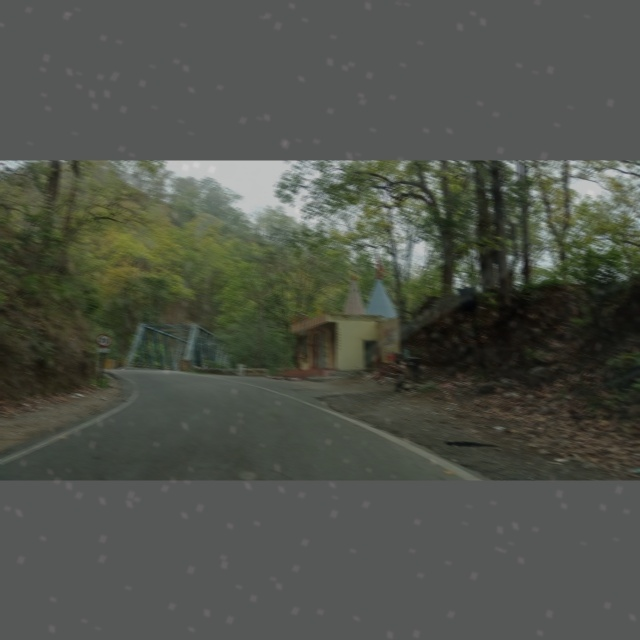Speed_Limit_20: (96, 330, 114, 349)
